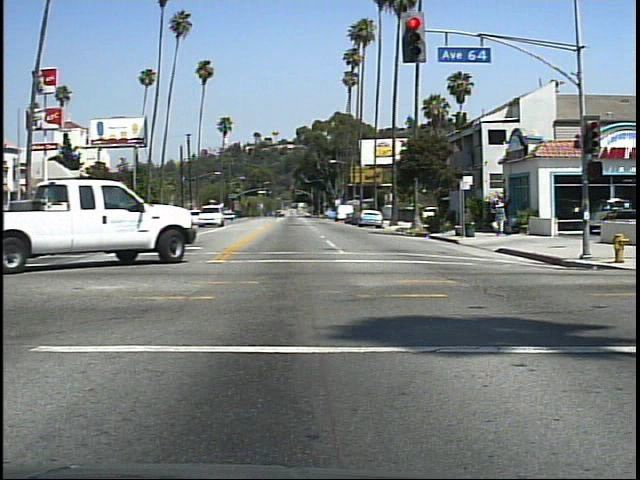person: (493, 196, 513, 239)
